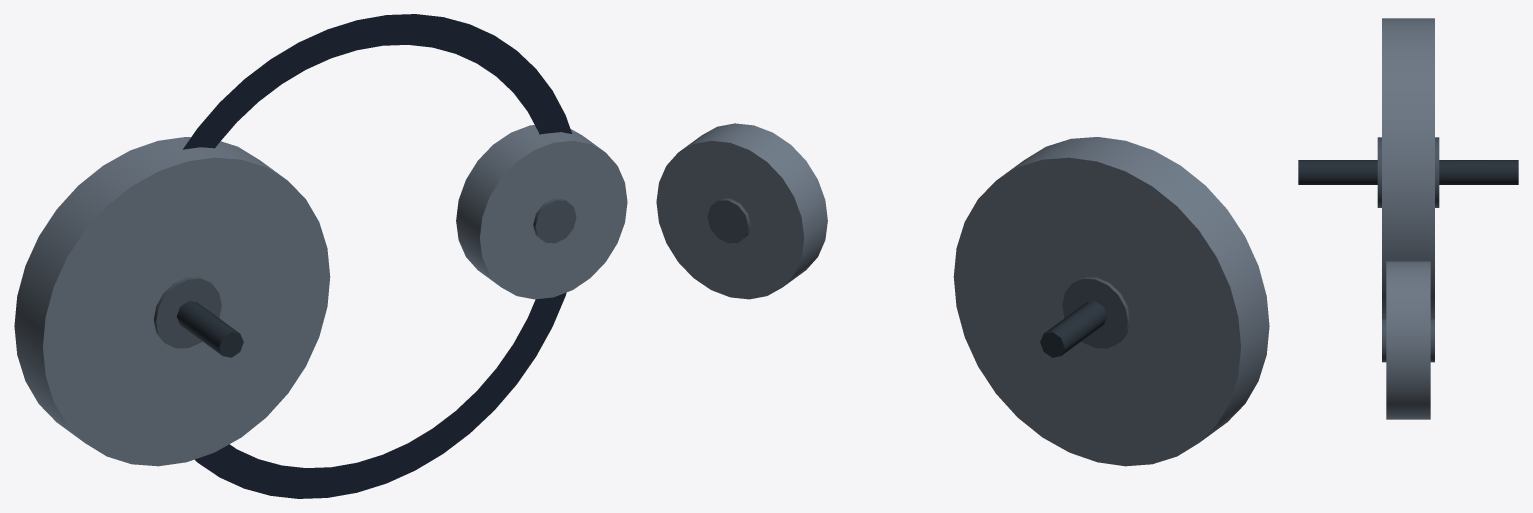
File: belt.glb
3 renders of one model, left to right at view 1: azimuth 30°, elevation 25°; view 2: azimuth 150°, elevation 25°; view 3: azimuth 270°, elevation 25°, orthographic. The views are drawn at different scales.
Size of the model in its own units: 1.43 by 1.1 by 0.5.
